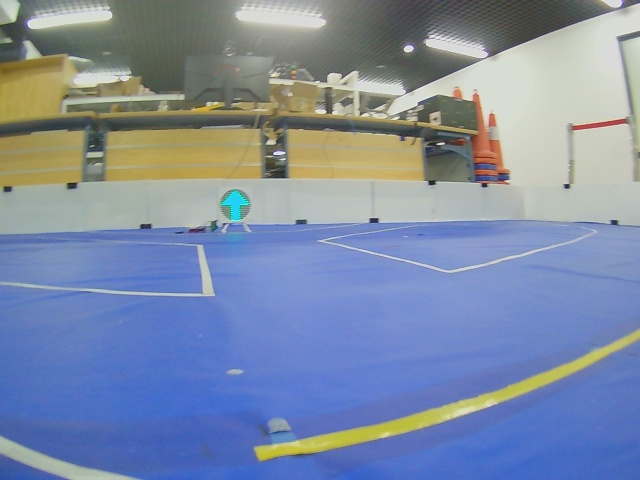straight_green: (220, 189, 251, 222)
